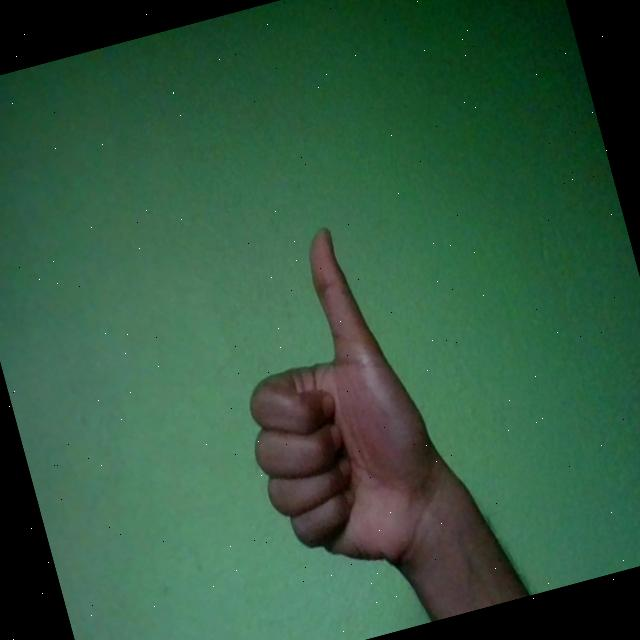Good Job: (202, 214, 462, 596)
